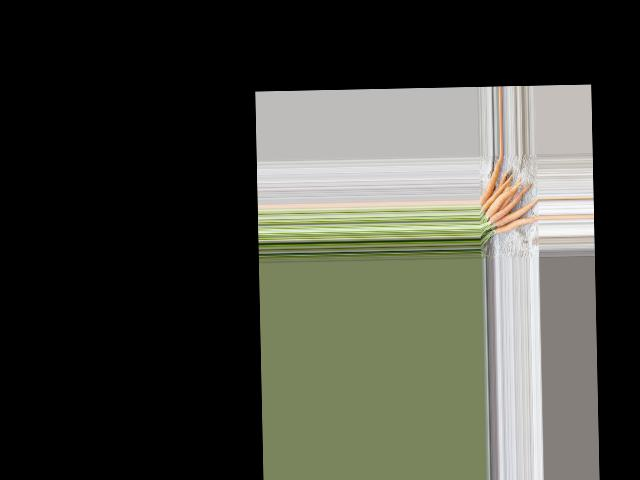carrot: (479, 155, 505, 208)
